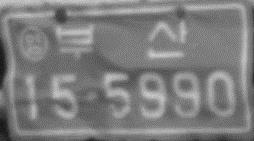-: (82, 88, 101, 102)
0: (207, 69, 239, 120)
1: (22, 72, 42, 121)
5: (101, 70, 131, 120), (50, 72, 81, 120)
9: (135, 71, 168, 119), (172, 69, 203, 118)
부산_D: (53, 18, 191, 62)
영: (18, 24, 49, 64)
